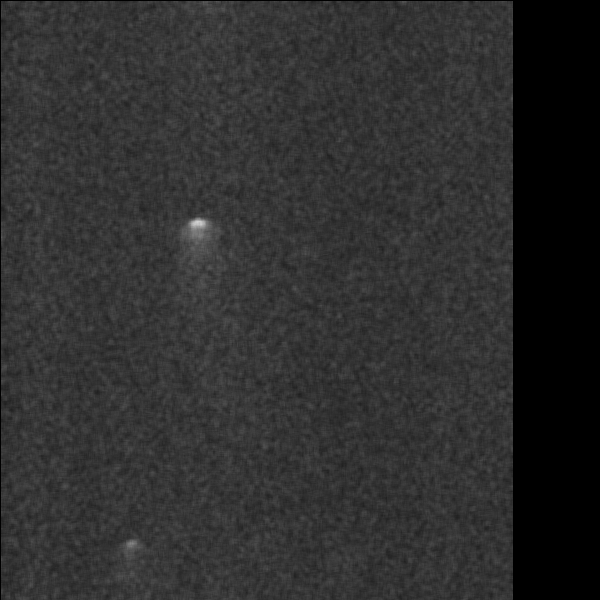spark: (178, 213, 217, 265), (118, 534, 146, 576), (191, 269, 211, 311)
